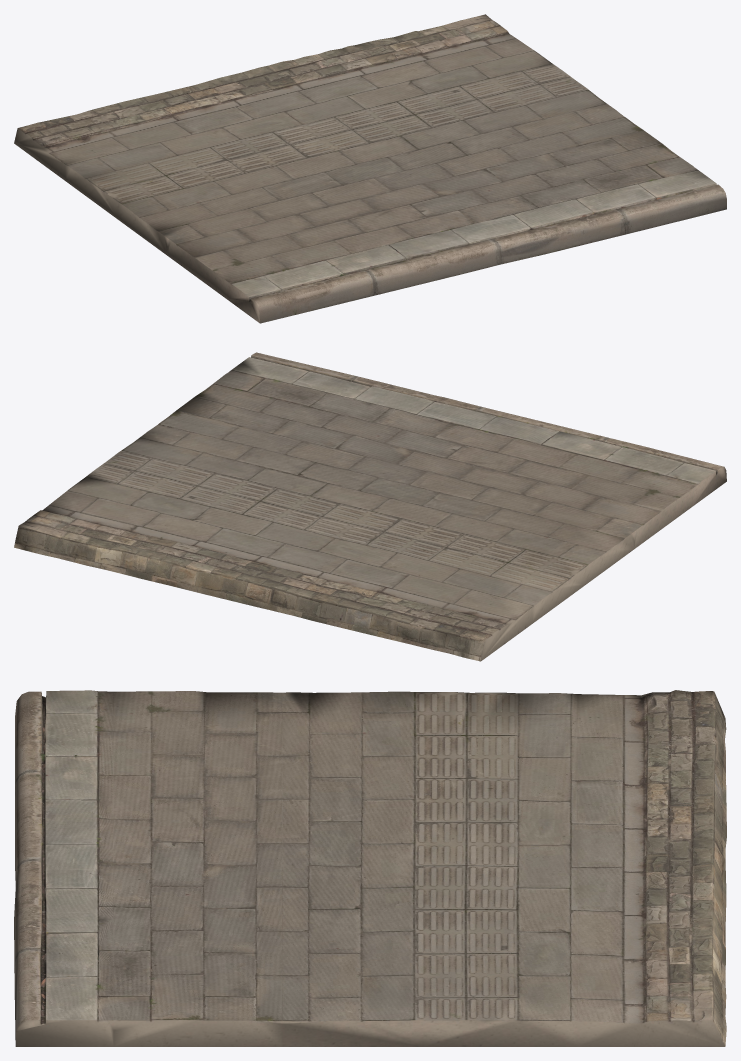
The model's file is PX_Sidewalk_02_LOD5.fbx.
3 renders of one model, top to bottom at view 1: azimuth 30°, elevation 25°; view 2: azimuth 150°, elevation 25°; view 3: azimuth 270°, elevation 25°, orthographic. The views are drawn at different scales.
Parts seen in each view (by area): view 1: PX_Sidewalk_02_LOD5; view 2: PX_Sidewalk_02_LOD5; view 3: PX_Sidewalk_02_LOD5.
Boxes of the visible parts, <box> form: PX_Sidewalk_02_LOD5: <box>14,14,726,323</box>; PX_Sidewalk_02_LOD5: <box>14,352,726,661</box>; PX_Sidewalk_02_LOD5: <box>14,690,726,1046</box>.
Size of the model in its own units: 272 by 11.69 by 249.
